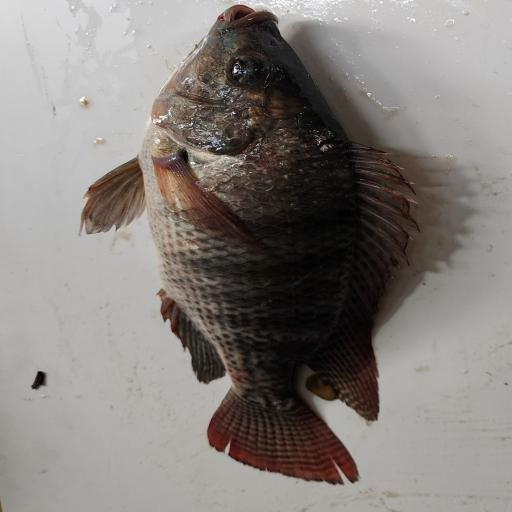Tilapia: (78, 5, 421, 485)
